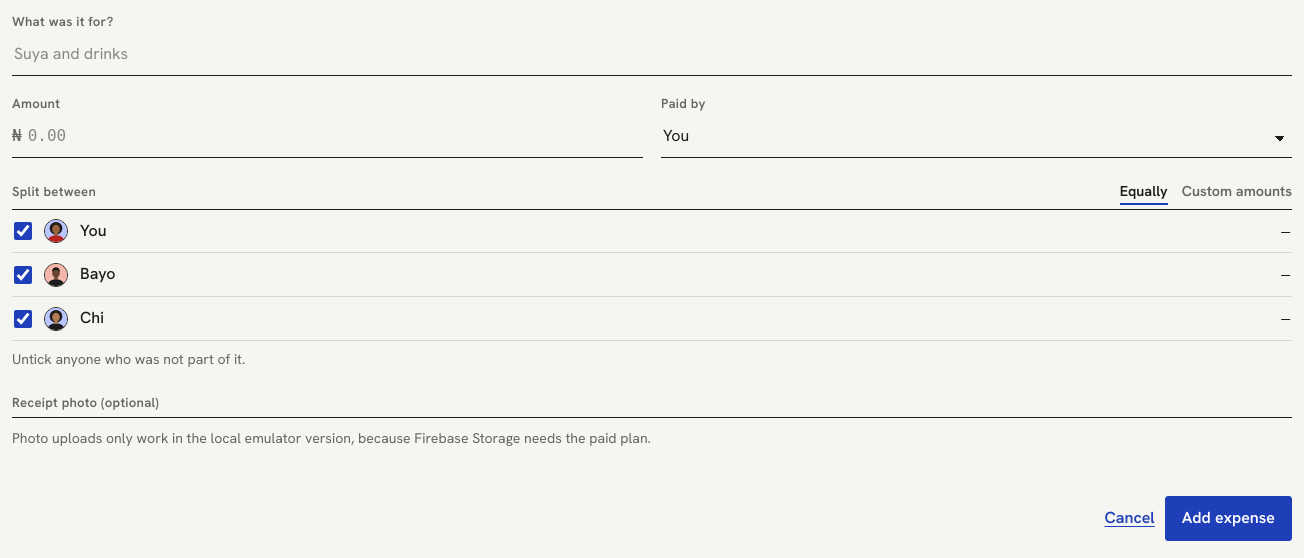
Test: <ExpenseForm> equal split › splits ₦100.00 three ways as 33.34 / 33.33 / 33.33 and says why
Type "100" into the field labelled "Amount" at x=334, y=137, box [26,116,643,157]
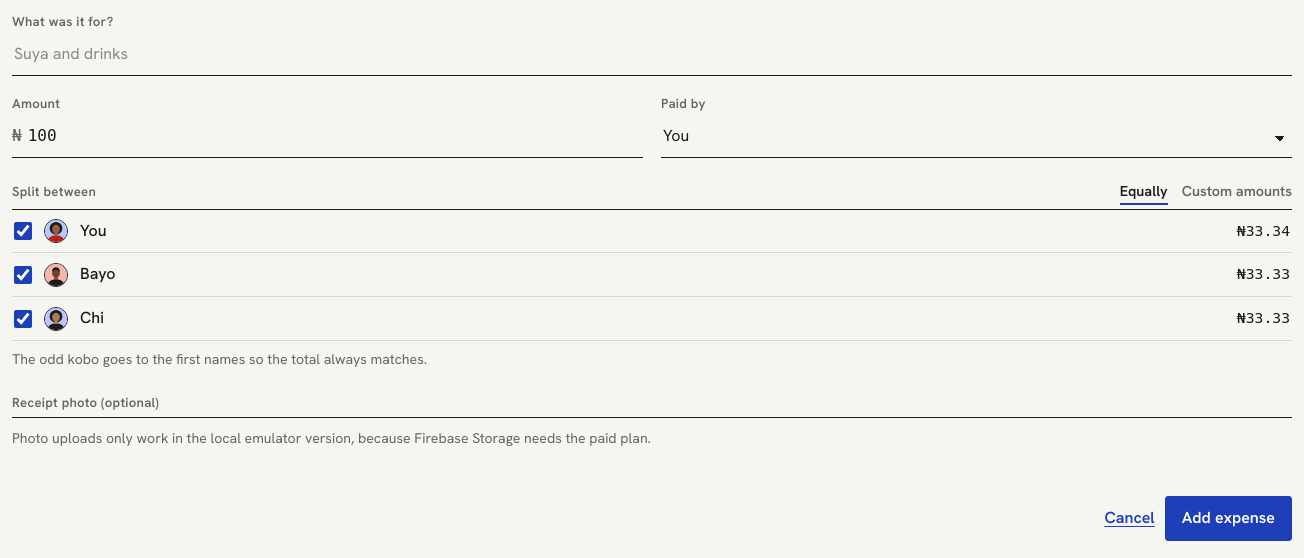
Check: the text "The odd kobo goes to the first names so the total always matches." is shown, box [12,350,427,368]
